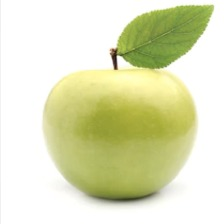apple: (42, 58, 184, 199)
